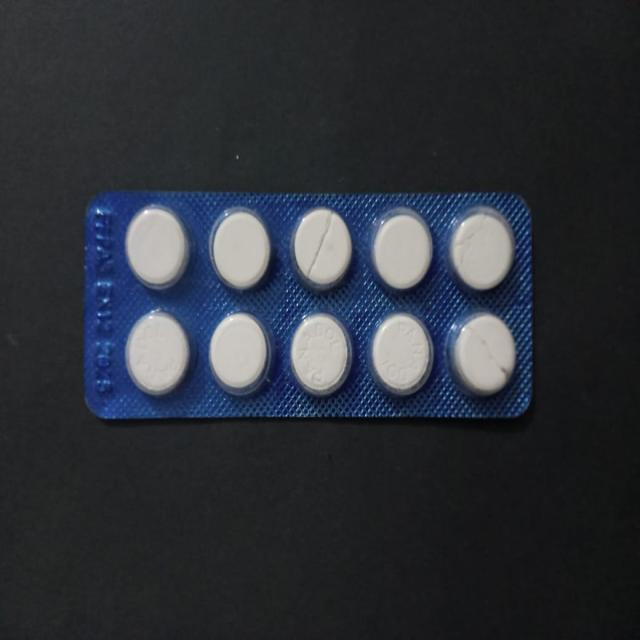defect: (446, 306, 520, 402), (288, 205, 356, 295)
